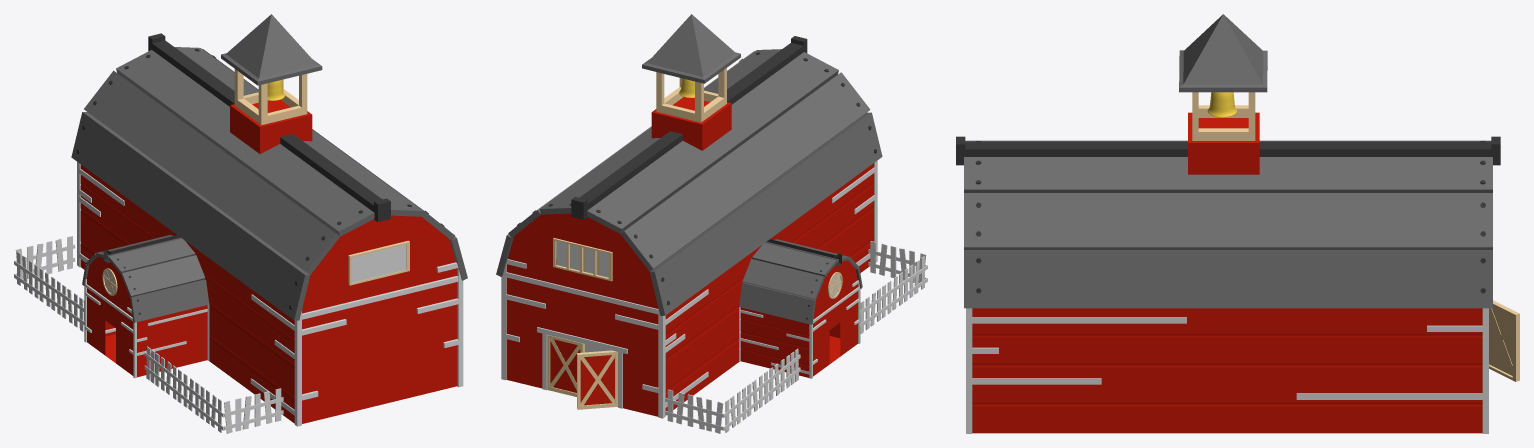
The model's file is coop (no door).fbx.
3 renders of one model, left to right at view 1: azimuth 30°, elevation 25°; view 2: azimuth 150°, elevation 25°; view 3: azimuth 270°, elevation 25°, orthographic. The views are drawn at different scales.
Parts seen in each view (by area): view 1: Cube, Cube.031, Cube.037, Cube.006, Cube.001, Cone, Cube.009, Cube.008, Cube.002, Cube.003, Cube.004; view 2: Cube, Cube.006, Cube.031, Cube.037, Cube.001, Cone, Cube.008, Cube.009, Cube.012, Cube.002, Cube.003, Cube.013 (+2 smaller); view 3: Cube, Cube.001, Cube.006, Cone, Cube.002, Cube.012, Cube.003, Circle.001.
Part boxes in pixels (bbox=[...]): Cube: bbox=[71, 47, 467, 423]; Cube.031: bbox=[87, 256, 207, 377]; Cube.037: bbox=[82, 235, 209, 322]; Cube.006: bbox=[77, 162, 463, 426]; Cube.001: bbox=[148, 33, 390, 221]; Cone: bbox=[221, 14, 322, 85]; Cube.009: bbox=[144, 346, 283, 433]; Cube.008: bbox=[14, 236, 84, 331]; Cube.002: bbox=[230, 99, 312, 153]; Cube.003: bbox=[234, 69, 307, 125]; Cube.004: bbox=[348, 240, 409, 285]; Cube: bbox=[496, 49, 882, 416]; Cube.006: bbox=[501, 160, 877, 418]; Cube.031: bbox=[740, 260, 857, 377]; Cube.037: bbox=[739, 239, 862, 324]; Cube.001: bbox=[571, 36, 807, 219]; Cone: bbox=[642, 14, 740, 83]; Cube.008: bbox=[665, 348, 800, 433]; Cube.009: bbox=[860, 241, 927, 333]; Cube.012: bbox=[577, 350, 617, 409]; Cube.002: bbox=[651, 97, 731, 150]; Cube.003: bbox=[656, 68, 726, 122]; Cube.013: bbox=[547, 335, 584, 396]; Cube: bbox=[964, 140, 1492, 433]; Cube.001: bbox=[956, 136, 1500, 165]; Cube.006: bbox=[966, 308, 1488, 433]; Cone: bbox=[1179, 14, 1267, 92]; Cube.002: bbox=[1188, 112, 1259, 174]; Cube.012: bbox=[1489, 300, 1519, 381]; Cube.003: bbox=[1192, 92, 1255, 140]; Circle.001: bbox=[1207, 92, 1236, 117].
Bounding box in the file's own units: 671 × 822 × 1121.
